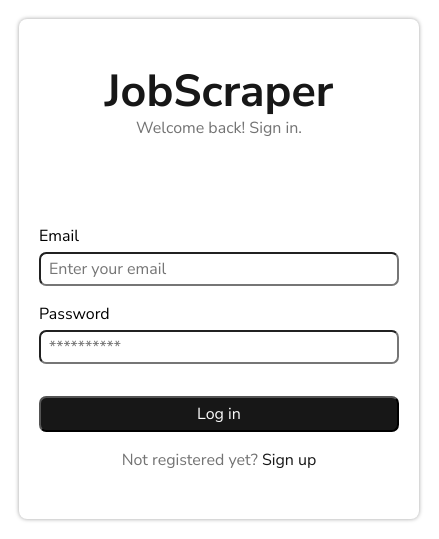
Test case: render LoginForm › should render errors if the inputs are empty when submitting
The width and height of the screenshot is (439, 539).
Click the button "Log in": (219, 414) [39,396,399,432]
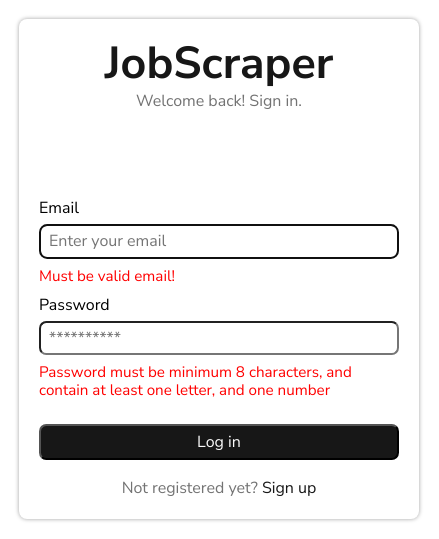
Check: the text "Must be valid email!" is shown, box [39,266,175,286]
Check: the text "password must be minimum 8 characters, and contain at least one letter, and one number" is shown, box [39,362,352,400]
